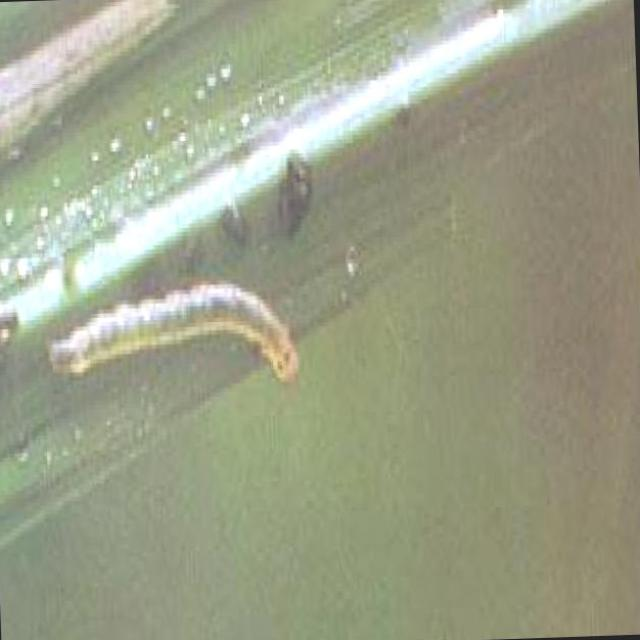leaf folder: (50, 283, 300, 381)
